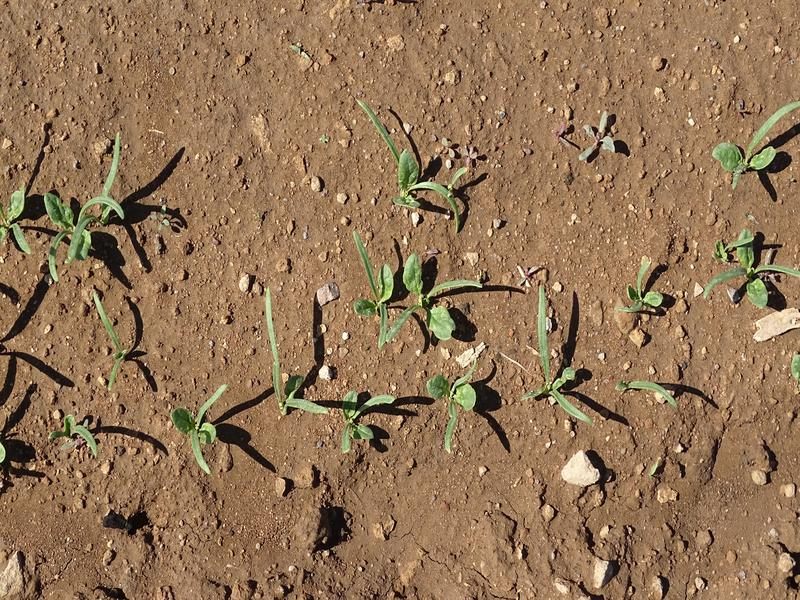Espinaca: (1, 134, 142, 285), (348, 101, 472, 226), (350, 234, 483, 338), (255, 292, 329, 444), (511, 294, 600, 417), (709, 218, 798, 309), (426, 359, 488, 461), (166, 382, 235, 471), (717, 103, 786, 191), (90, 291, 136, 387), (606, 254, 672, 316), (38, 412, 119, 458), (343, 376, 390, 454)
